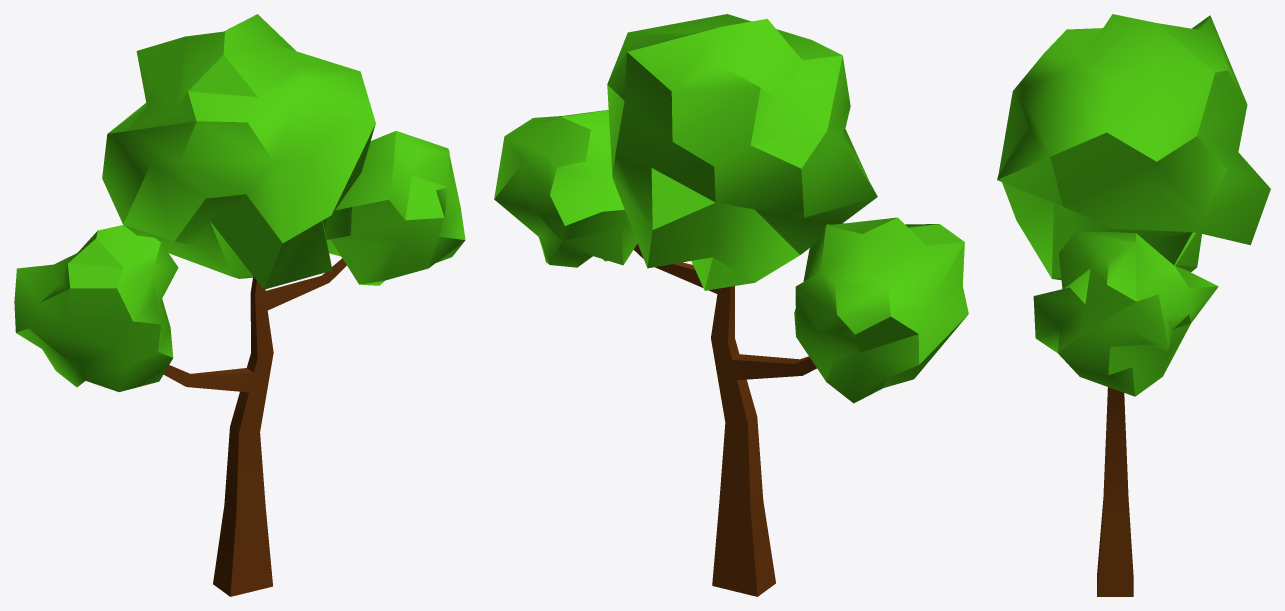
The model's file is Tree.obj.
3 views of the same model, side by side, from view 1: azimuth 30°, elevation 25°; view 2: azimuth 150°, elevation 25°; view 3: azimuth 270°, elevation 25° (orthographic). The views are drawn at different scales.
Visible parts, largest first — view 1: Tree; view 2: Tree; view 3: Tree.
Part boxes in pixels (box(x1,y1,x2,y2)): Tree: box(14, 14, 465, 596); Tree: box(494, 14, 968, 596); Tree: box(997, 14, 1270, 596).
Size of the model in its own units: 482 by 580 by 255.
